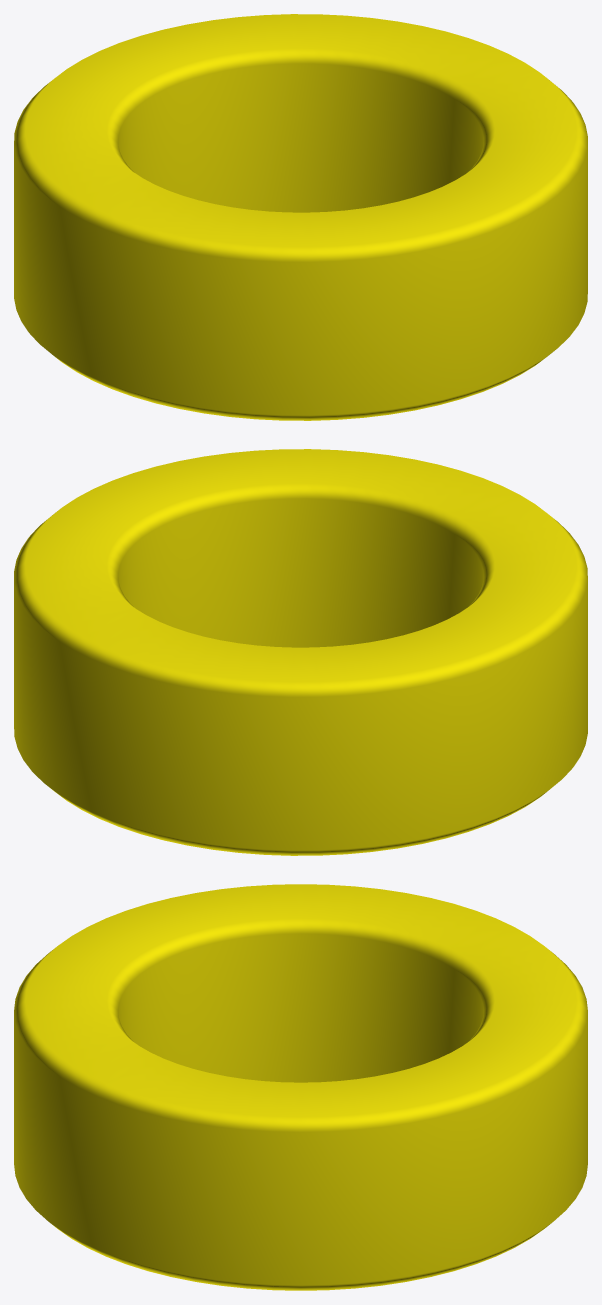
The picture shows the model from 3 angles, top to bottom: view 1: azimuth 30°, elevation 25°; view 2: azimuth 150°, elevation 25°; view 3: azimuth 270°, elevation 25°; orthographic projection.
Parts seen in each view (by area): view 1: seal_body; view 2: seal_body; view 3: seal_body.
Part boxes in pixels (x1,y1,x2,y2): seal_body: (14, 14, 587, 420); seal_body: (14, 449, 587, 855); seal_body: (14, 884, 587, 1290).
Bounding box in the file's own units: 0.022 × 0.00735 × 0.022.
